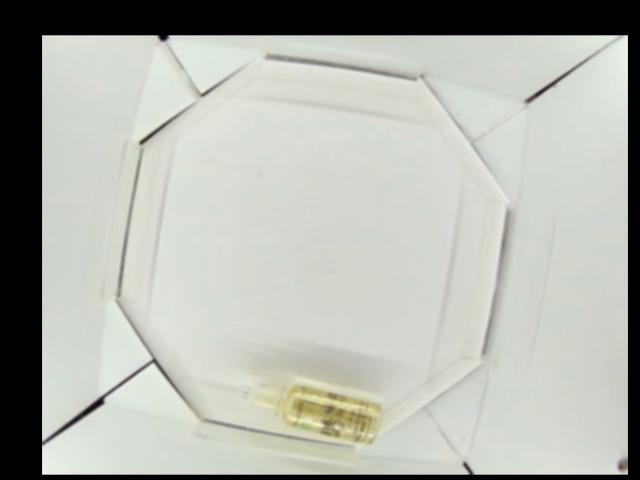Bottle: (235, 373, 385, 444)
